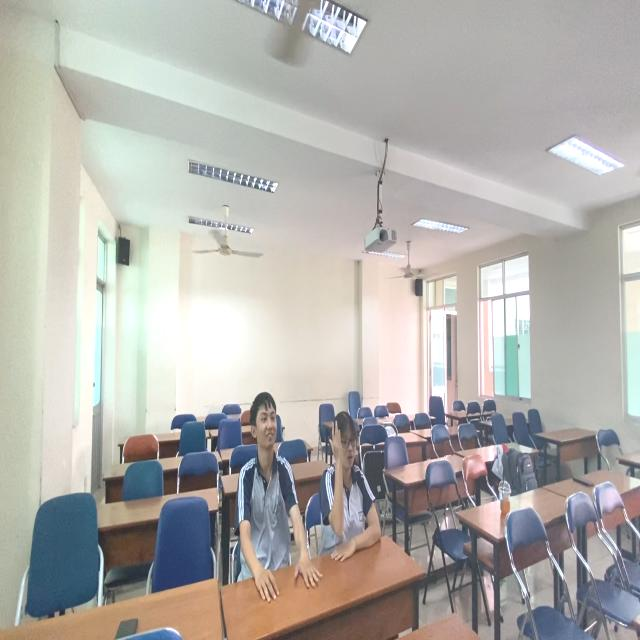raise_hand: (318, 407, 389, 543)
